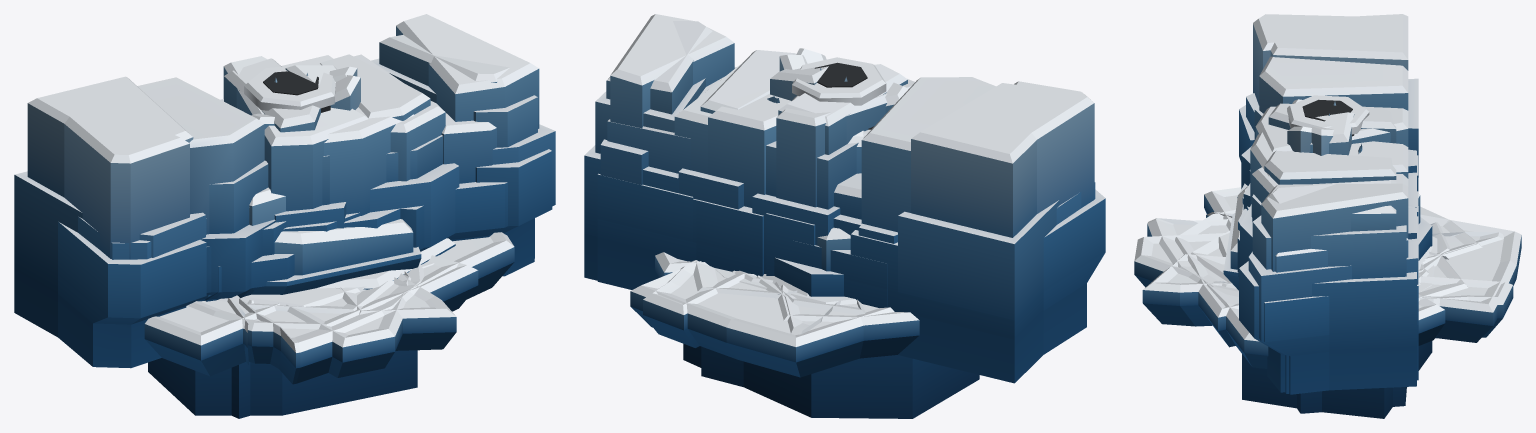
File: vesper-kit.glb
3 renders of one model, left to right at view 1: azimuth 30°, elevation 25°; view 2: azimuth 150°, elevation 25°; view 3: azimuth 270°, elevation 25°, orthographic. The views are drawn at different scales.
Visible parts, largest first — view 1: ice_cliff_2, ice_cliff_0, ice_cliff_1, iceberg_1, floe_9, floe_8, floe_pair_a_0, floe_pair_a_1, vent_stack_0, iceberg_0, floe_2, floe_triple_c_1 (+3 smaller); view 2: ice_cliff_1, ice_cliff_2, ice_cliff_0, iceberg_1, floe_9, floe_8, vent_stack_0, floe_pair_a_1, iceberg_0, floe_triple_c_1, serac_1, floe_pair_a_0 (+3 smaller); view 3: ice_cliff_0, ice_cliff_2, ice_cliff_1, floe_9, iceberg_1, floe_pair_a_1, floe_8, floe_pair_a_0, vent_stack_0, floe_triple_c_1, serac_1, iceberg_0 (+4 smaller).
Part boxes in pixels (box(x1,y1,x2,y2)): ice_cliff_2: box(46, 14, 555, 368); ice_cliff_0: box(61, 34, 552, 300); ice_cliff_1: box(14, 55, 507, 337); iceberg_1: box(148, 219, 421, 415); floe_9: box(144, 232, 514, 377); floe_8: box(187, 255, 478, 363); floe_pair_a_0: box(239, 264, 424, 384); floe_pair_a_1: box(247, 273, 456, 350); vent_stack_0: box(244, 66, 335, 112); iceberg_0: box(231, 187, 285, 418); floe_2: box(217, 255, 439, 306); floe_triple_c_1: box(227, 280, 394, 364); ice_cliff_1: box(597, 67, 1064, 383); ice_cliff_2: box(600, 14, 1105, 354); ice_cliff_0: box(584, 21, 1095, 280); iceberg_1: box(683, 227, 979, 418); floe_9: box(630, 261, 894, 377); floe_8: box(655, 252, 919, 358); vent_stack_0: box(792, 57, 886, 105); floe_pair_a_1: box(643, 260, 756, 347); iceberg_0: box(701, 346, 743, 386); floe_triple_c_1: box(692, 260, 797, 299); serac_1: box(770, 66, 828, 100); floe_pair_a_0: box(756, 275, 847, 334); ice_cliff_0: box(1239, 20, 1416, 392); ice_cliff_2: box(1237, 14, 1418, 393); ice_cliff_1: box(1237, 14, 1418, 394); floe_9: box(1134, 187, 1521, 368); iceberg_1: box(1223, 186, 1432, 418); floe_pair_a_1: box(1142, 254, 1513, 338); floe_8: box(1175, 206, 1482, 347); floe_pair_a_0: box(1147, 218, 1503, 296); vent_stack_0: box(1287, 95, 1369, 136); floe_triple_c_1: box(1191, 212, 1468, 301); serac_1: box(1310, 112, 1354, 155); iceberg_0: box(1297, 387, 1406, 413).
Bounding box in the file's own units: 2.51 × 1.55 × 2.09.
